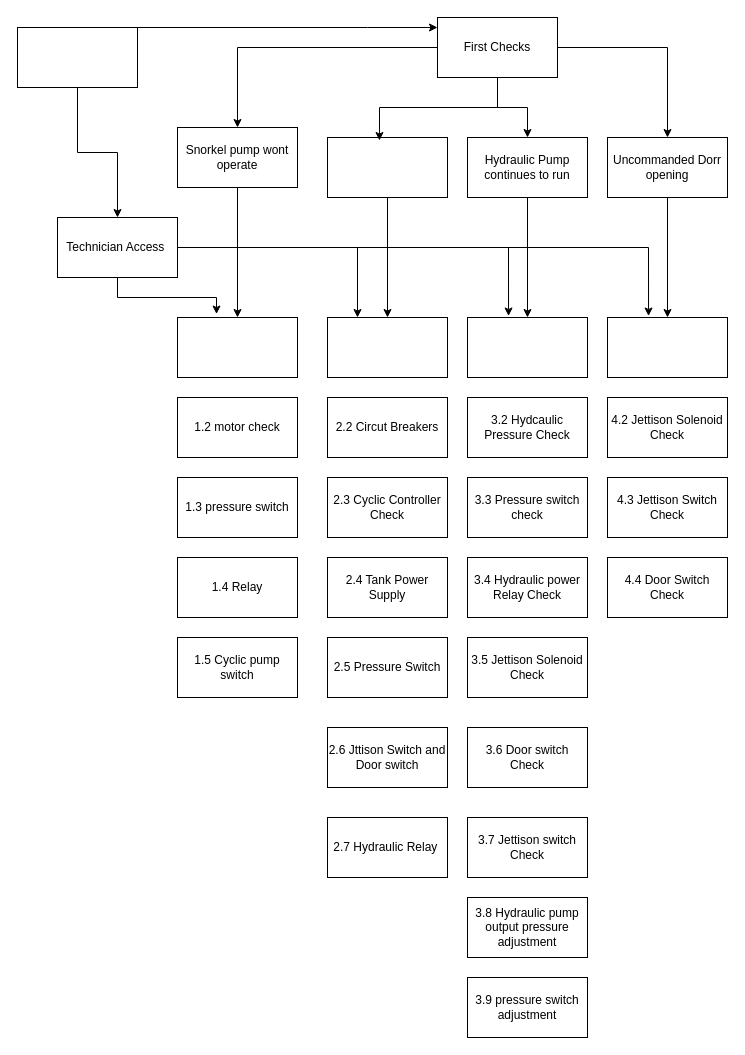
Image size: 745x1055. Some labels were removed from this diagram. The centre of each missing label's shape, as x and y in pixels:
"1.1 Quick Check" belongs at [237,347].
"2.1 Quick Check" belongs at [387,347].
"3.1 Quick Check" belongs at [527,347].
"4.1 Quick Check" belongs at [667,347].
"System wont turn on" belongs at [387,167].
"Troubleshooting Start Page" belongs at [77,57].
